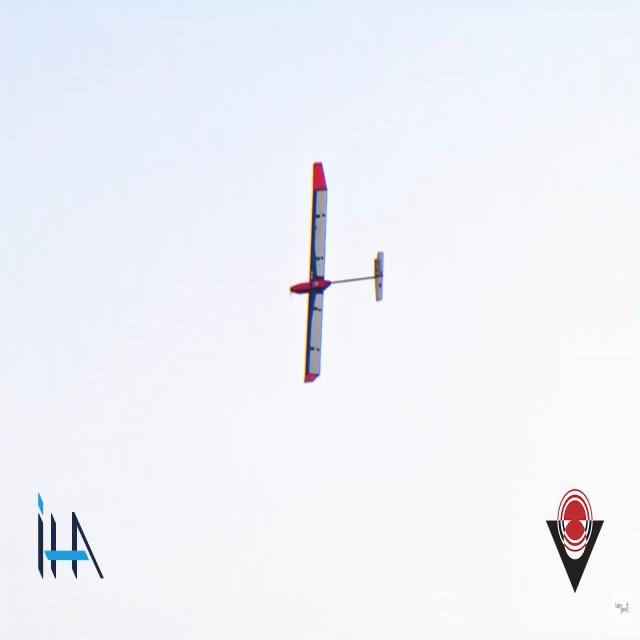iha: (321, 159, 353, 385)
